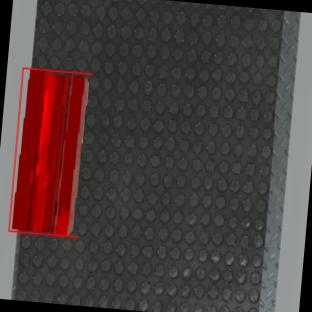objects: (8, 67, 93, 239)
